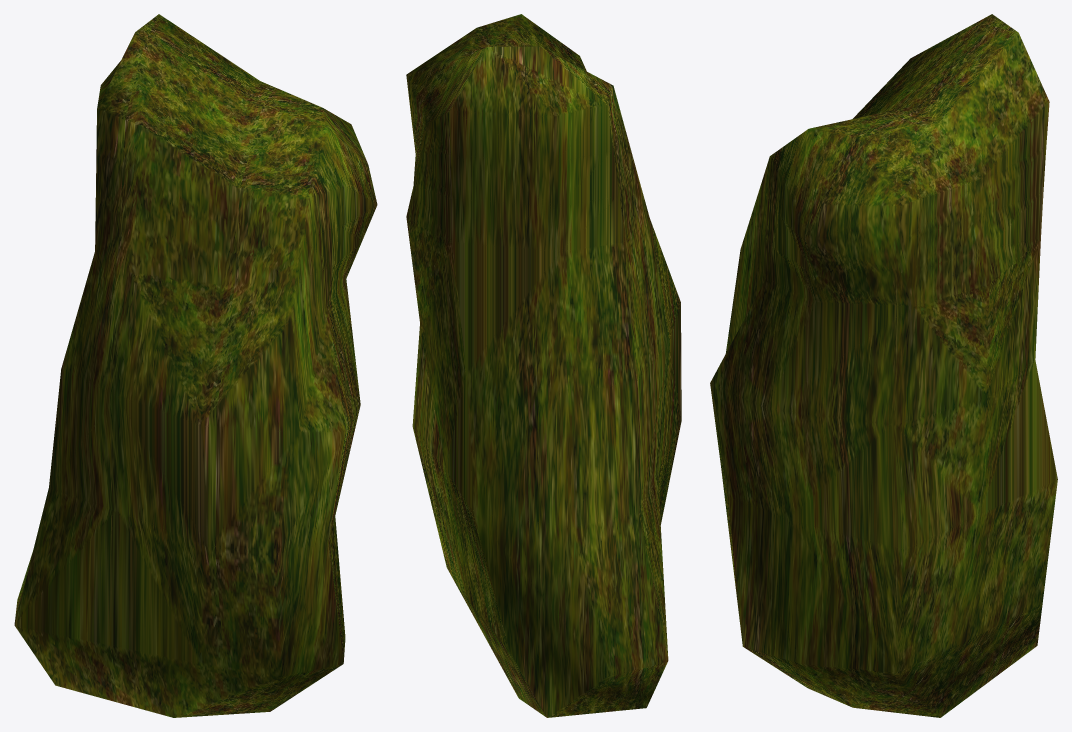
File: TROLLHOLE02_RM_PSURF77.fbx
3 views of the same model, side by side, from view 1: azimuth 30°, elevation 25°; view 2: azimuth 150°, elevation 25°; view 3: azimuth 270°, elevation 25° (orthographic). The views are drawn at different scales.
Visible parts, largest first — view 1: TROLLHOLE02_RM_PSURF77; view 2: TROLLHOLE02_RM_PSURF77; view 3: TROLLHOLE02_RM_PSURF77.
Boxes of the visible parts, x1,y1,x2,y2 form: TROLLHOLE02_RM_PSURF77: [14, 14, 377, 717]; TROLLHOLE02_RM_PSURF77: [406, 14, 681, 717]; TROLLHOLE02_RM_PSURF77: [710, 14, 1057, 717].
Size of the model in its own units: 53888 by 114661 by 53037.
1 material, 1 textured.
